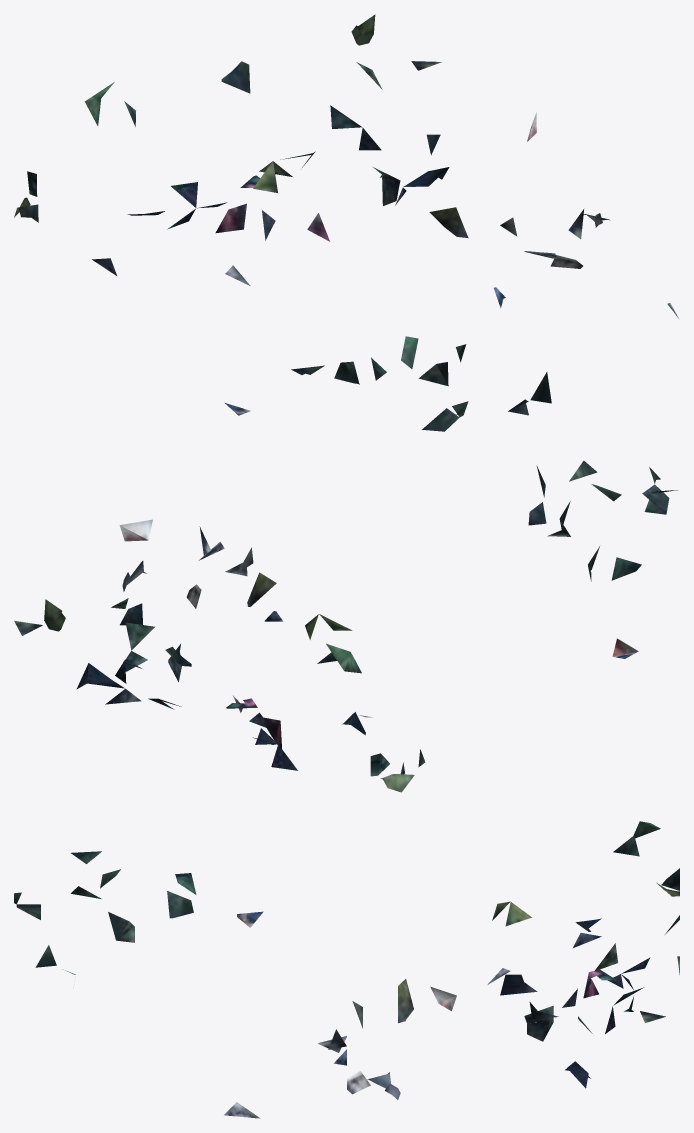
3 views of the same model, one above another, from view 1: azimuth 30°, elevation 25°; view 2: azimuth 150°, elevation 25°; view 3: azimuth 270°, elevation 25° (orthographic). The views are drawn at different scales.
Visible parts, largest first — view 1: 3043627270436160751_1; view 2: 3043627270436160751_1; view 3: 3043627270436160751_1.
Boxes of the visible parts, box(x1,y1,x2,y2) form: 3043627270436160751_1: box(14, 14, 679, 431); 3043627270436160751_1: box(14, 460, 677, 792); 3043627270436160751_1: box(14, 821, 679, 1118).
Size of the model in its own units: 54.61 by 18.19 by 76.51.
Materials: 1 (1 with a texture image).
